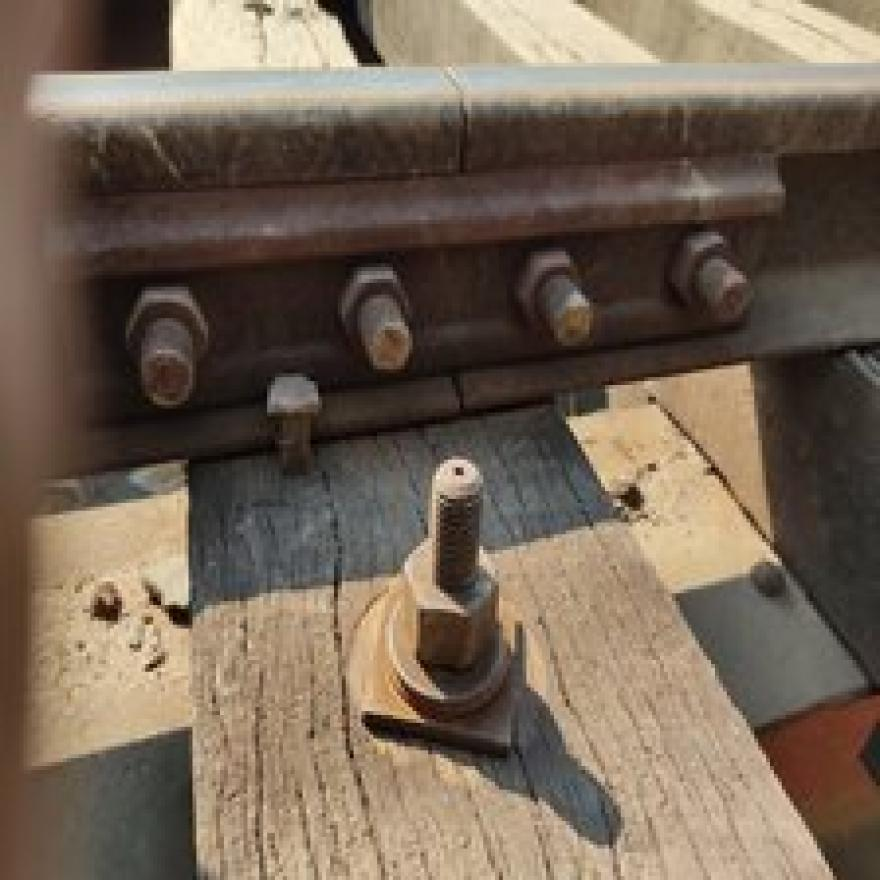railway-gap: (391, 53, 540, 188), (418, 355, 496, 433)
